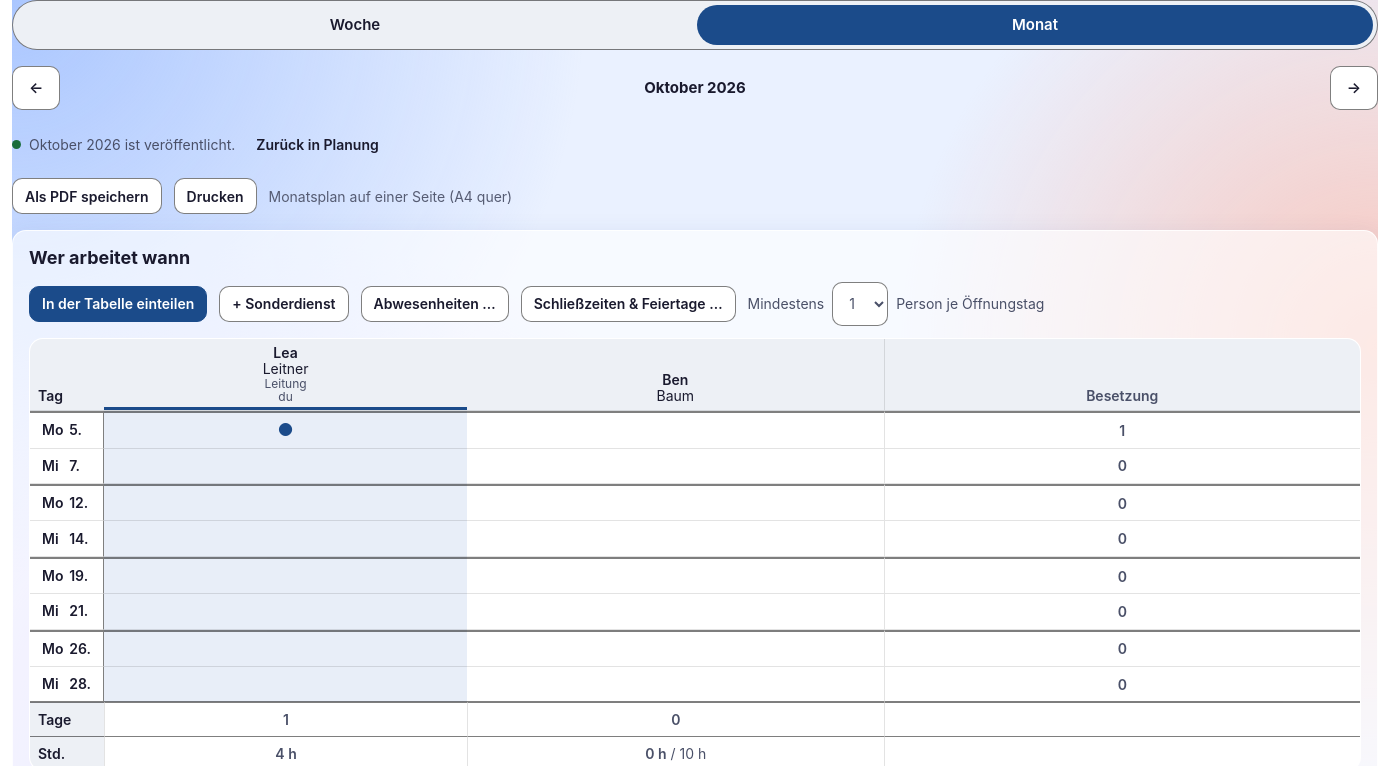
Test: Einsatz-Matrix bearbeiten (Monat) › Fehler beim Speichern: Entwurf bleibt erhalten
Click the button "In der Tabelle einteilen": click(118, 304) x1=29 y1=286 x2=207 y2=322
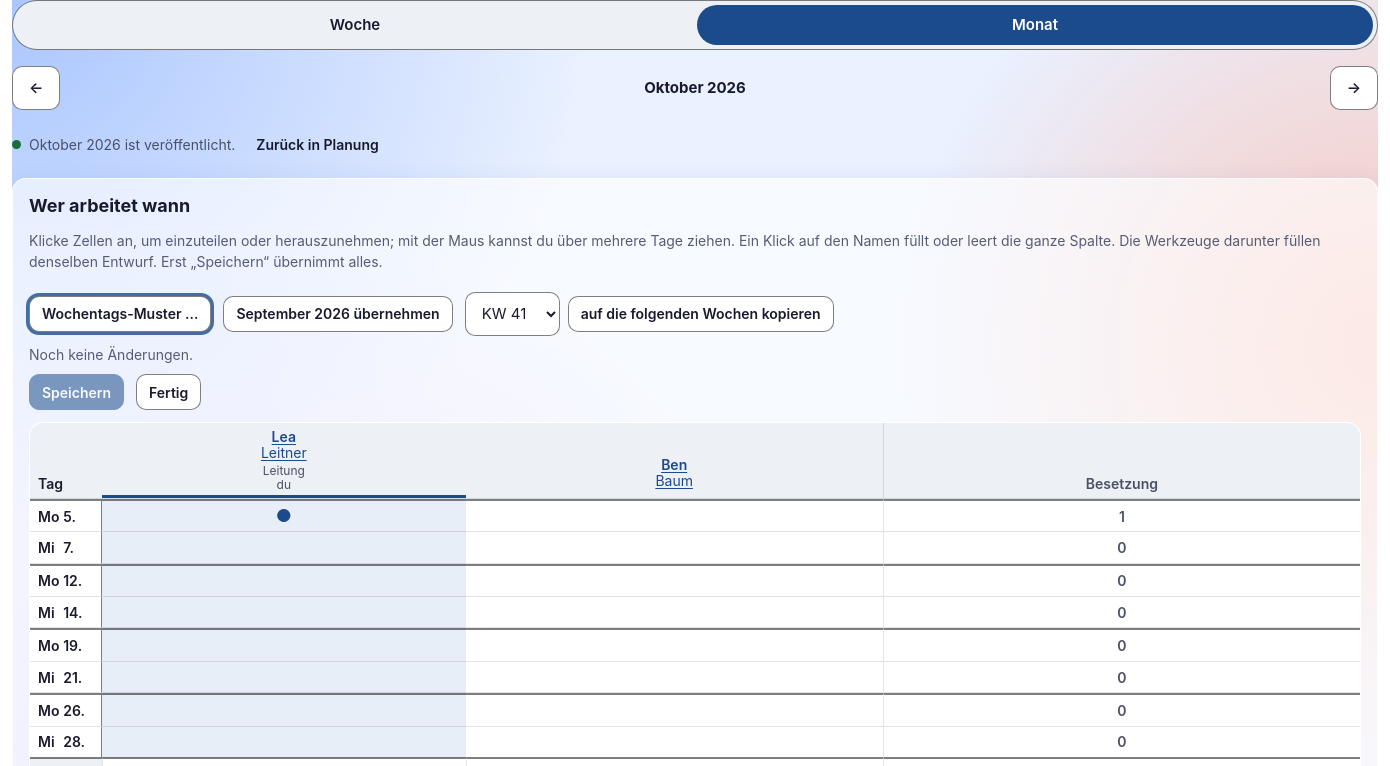
Click the button named "Ben Baum, Mi 7.": click(674, 548) x1=466 y1=532 x2=883 y2=563
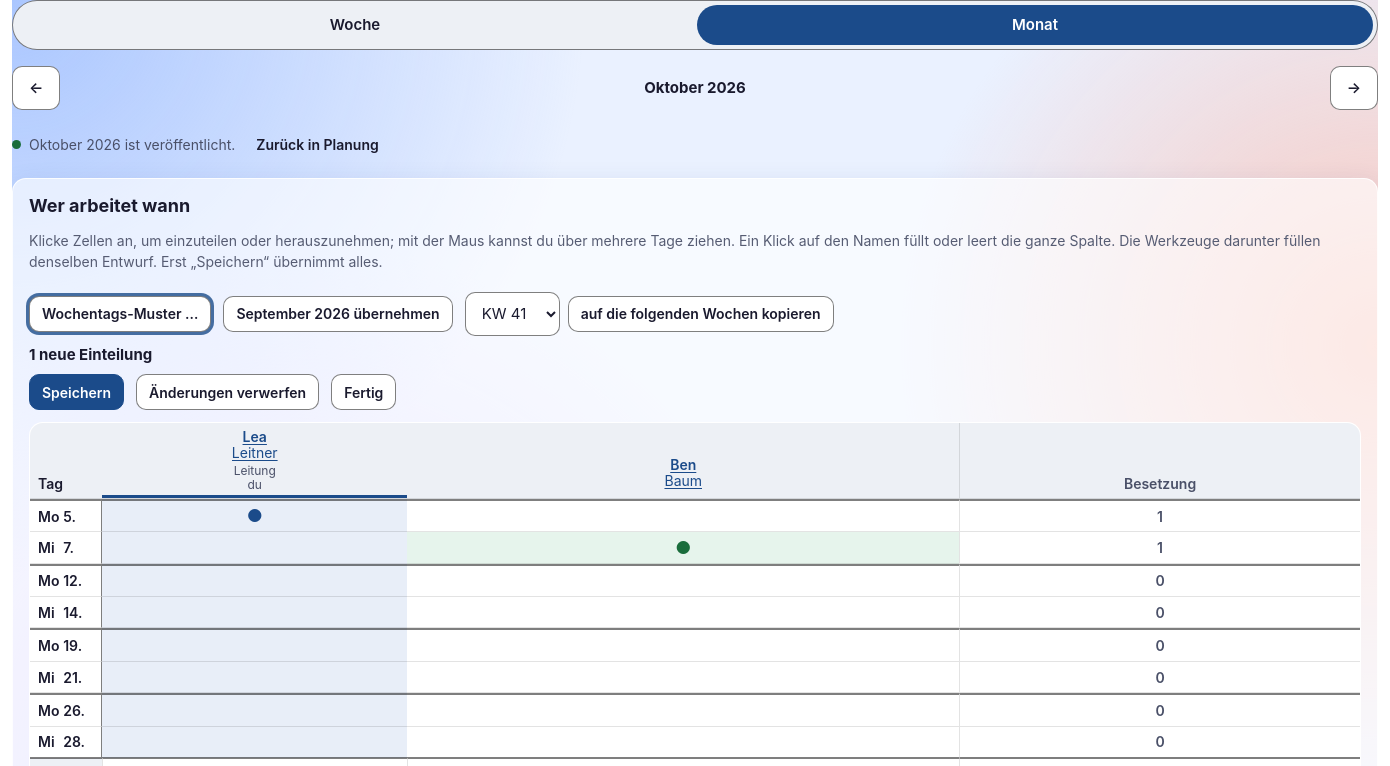
Click the button "Speichern": click(77, 392) x1=29 y1=374 x2=124 y2=410
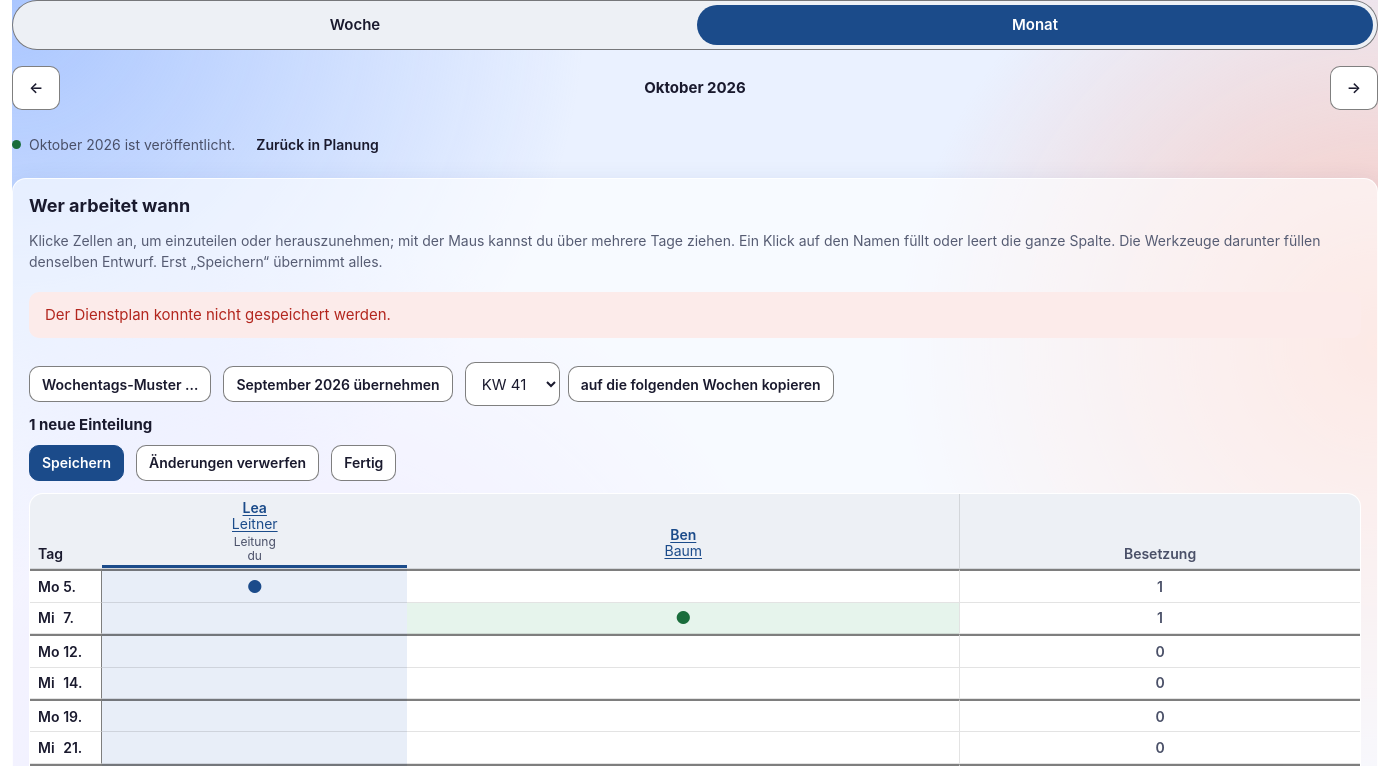
Expected: the message "Der Dienstplan konnte nicht gespeichert werden." is shown, x1=29 y1=292 x2=1361 y2=338
